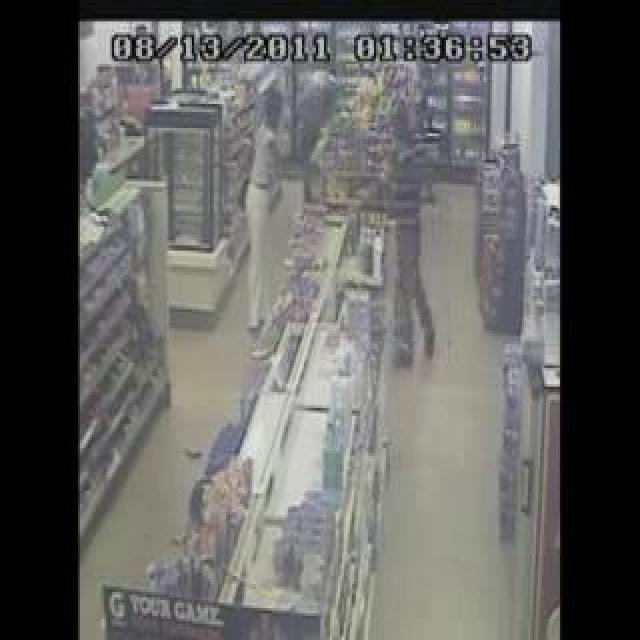thief: (387, 76, 450, 226), (242, 73, 288, 185)
